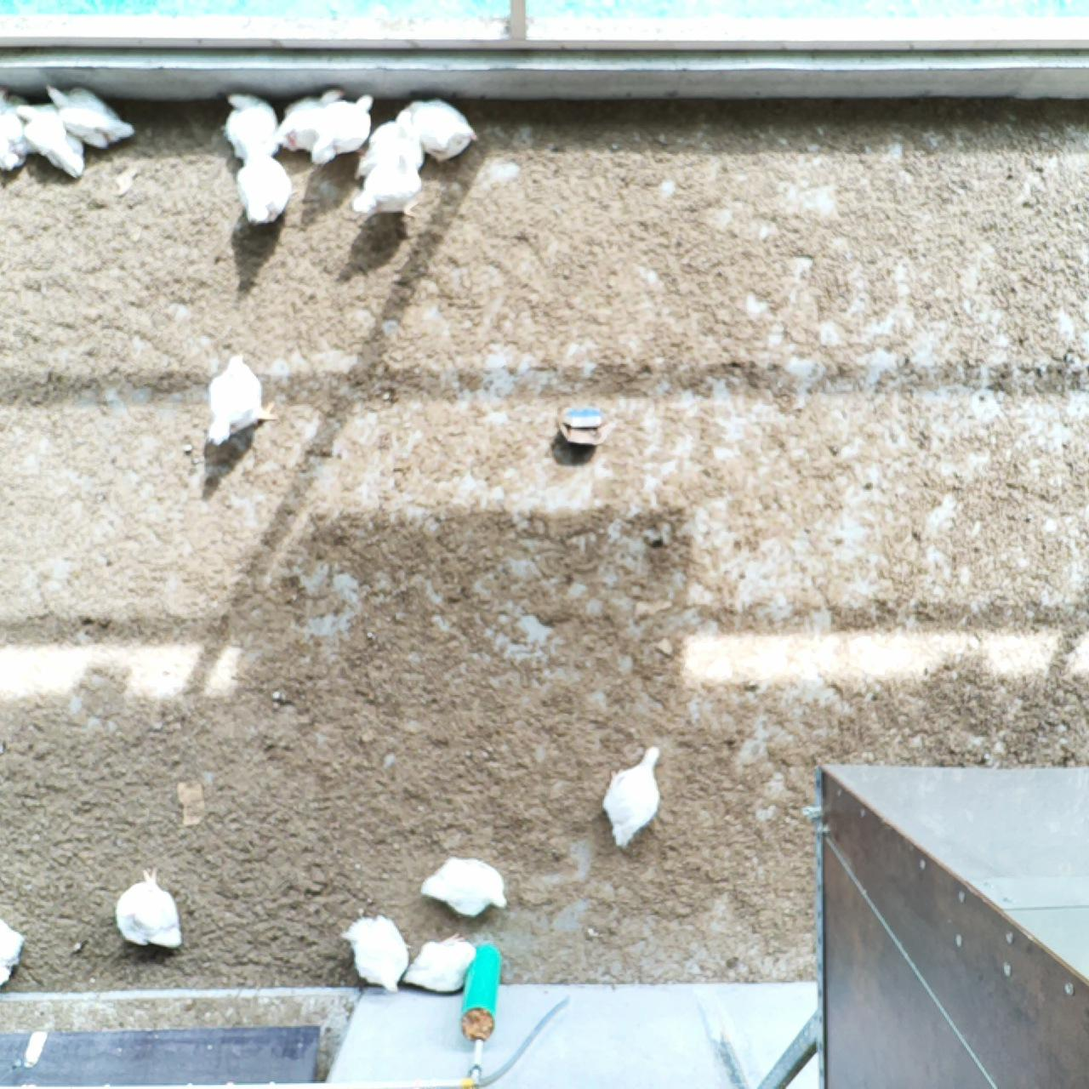chicken: (200, 346, 281, 448), (597, 742, 667, 854), (337, 909, 411, 997), (113, 863, 185, 953), (414, 850, 513, 915), (14, 99, 91, 182), (352, 105, 429, 186), (399, 92, 479, 169), (44, 80, 134, 146), (233, 137, 294, 231), (400, 931, 478, 996), (278, 83, 347, 156), (217, 85, 283, 161), (349, 153, 420, 223), (315, 92, 378, 168), (0, 83, 31, 176), (0, 915, 26, 995)
